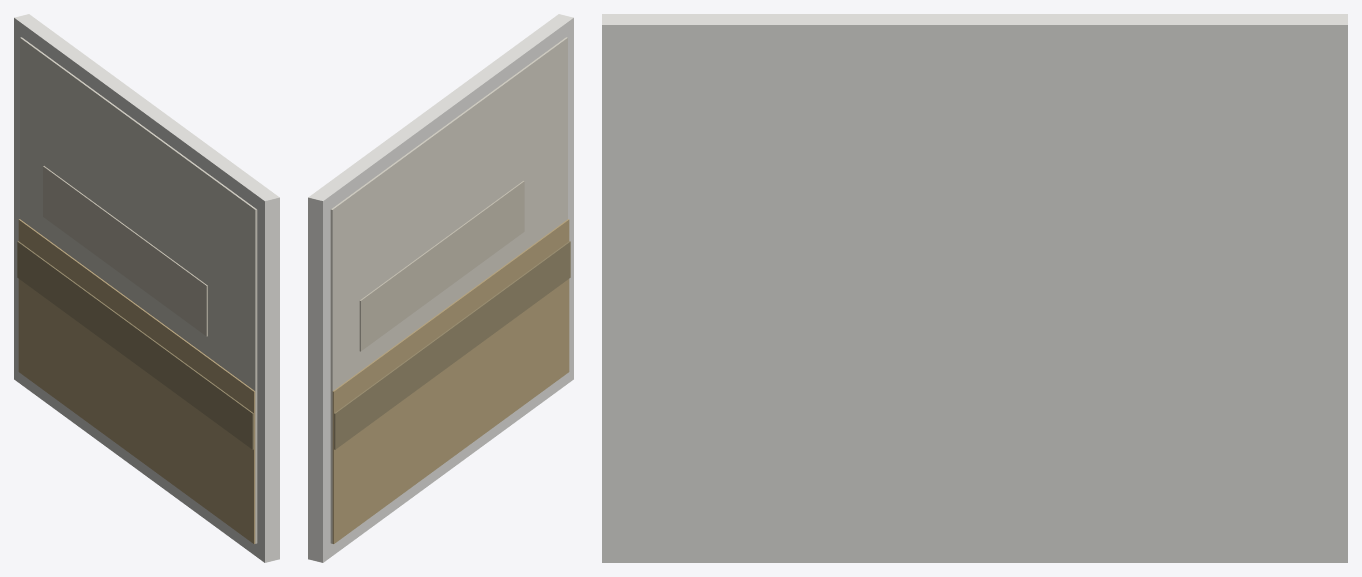
Rendered from rios_landscape_art.glb.
3 views of the same model, side by side, from view 1: azimuth 30°, elevation 25°; view 2: azimuth 150°, elevation 25°; view 3: azimuth 270°, elevation 25° (orthographic). The views are drawn at different scales.
Visible parts, largest first — view 1: root; view 2: root; view 3: root.
Boxes of the visible parts, left/top/right/bottom form: root: left=14, top=14, right=279, bottom=562; root: left=308, top=14, right=573, bottom=562; root: left=602, top=14, right=1347, bottom=562.
Bounding box in the file's own units: 0.0335 × 0.5944 × 0.7468.
